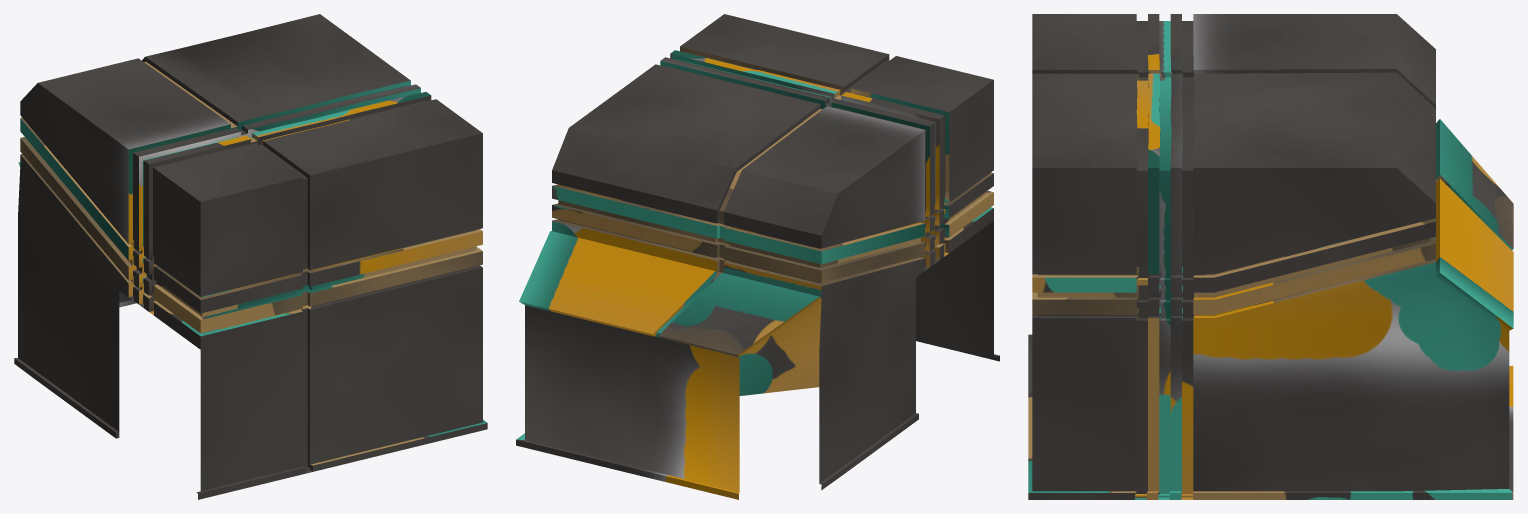
The model's file is House_Base.fbx.
3 views of the same model, side by side, from view 1: azimuth 30°, elevation 25°; view 2: azimuth 150°, elevation 25°; view 3: azimuth 270°, elevation 25° (orthographic). The views are drawn at different scales.
Parts seen in each view (by area): view 1: House_Base; view 2: House_Base; view 3: House_Base.
Part boxes in pixels (<box>): House_Base: <box>14,14,487,499</box>; House_Base: <box>516,14,999,499</box>; House_Base: <box>1028,14,1513,499</box>.
Size of the model in its own units: 836 by 814 by 1083.
1 material, 1 textured.
